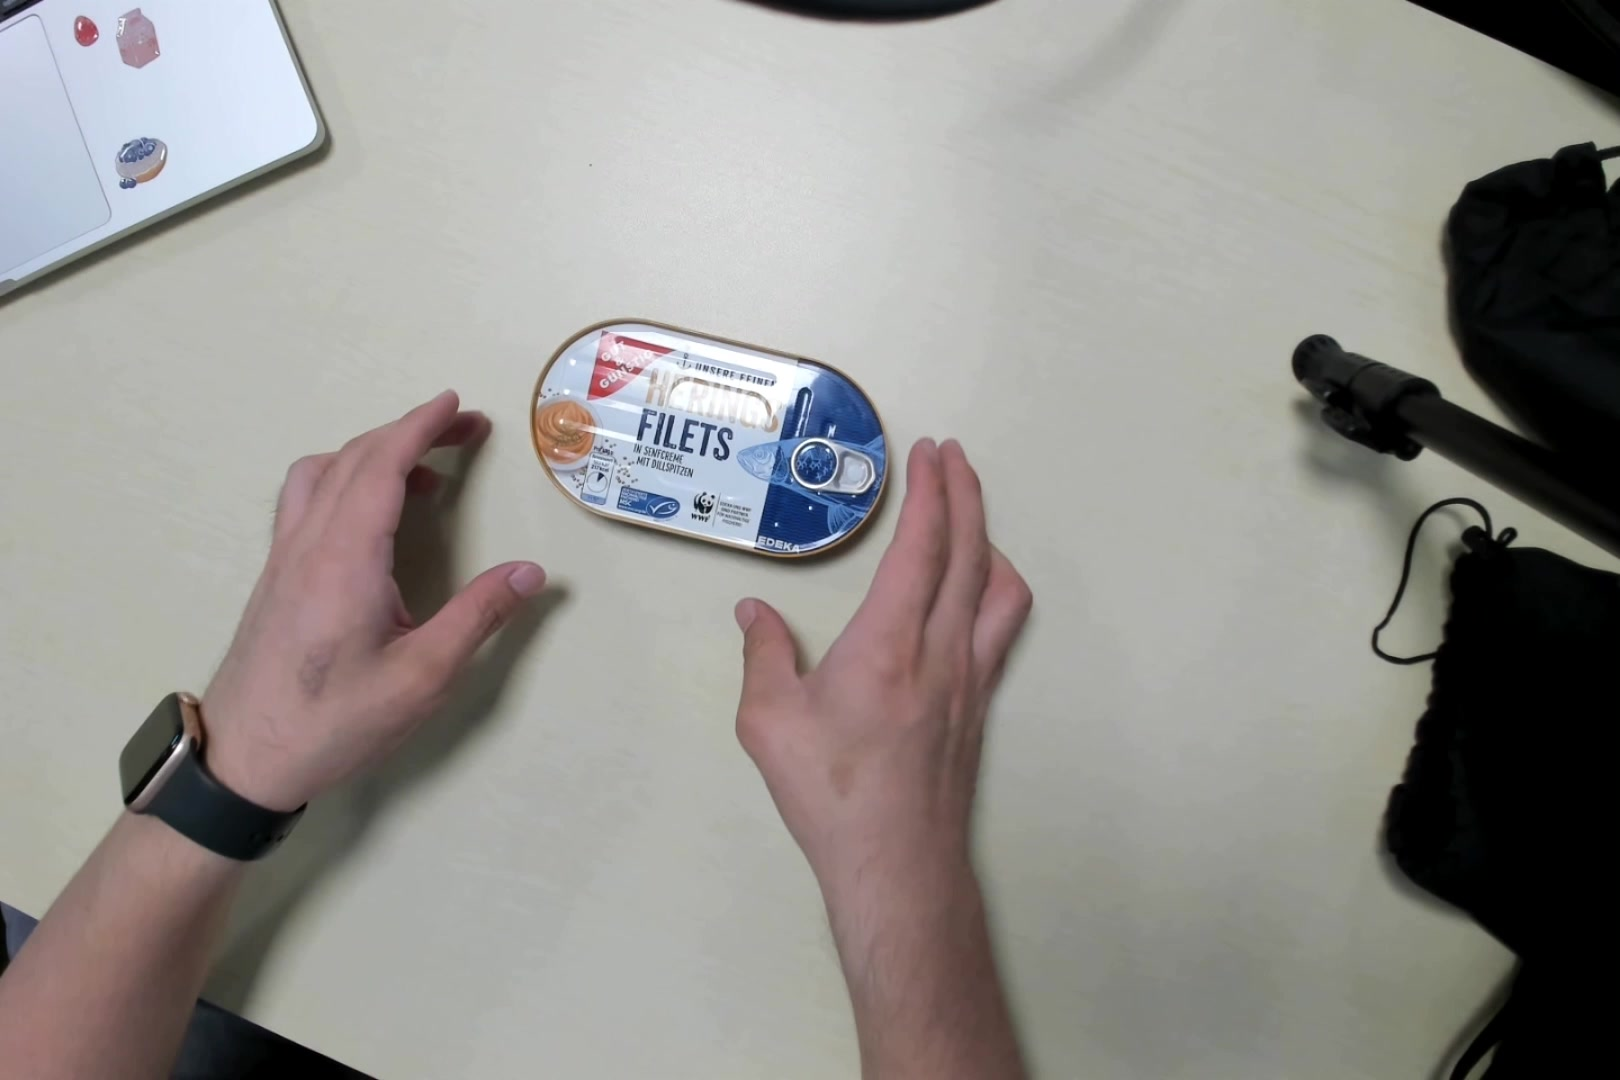OtherCannedSeafood_100-199g_Halal_NonHealthy: (533, 313, 886, 563)
